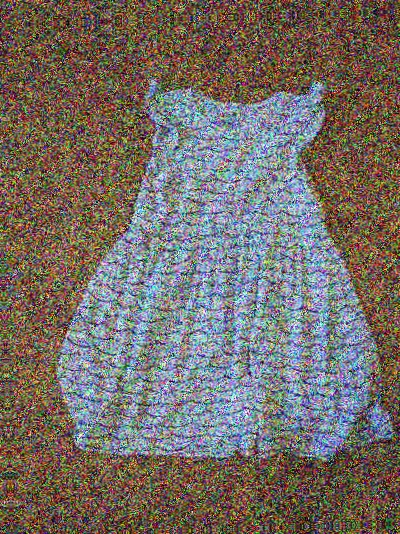Dress: (31, 33, 400, 488), (15, 0, 399, 2)
